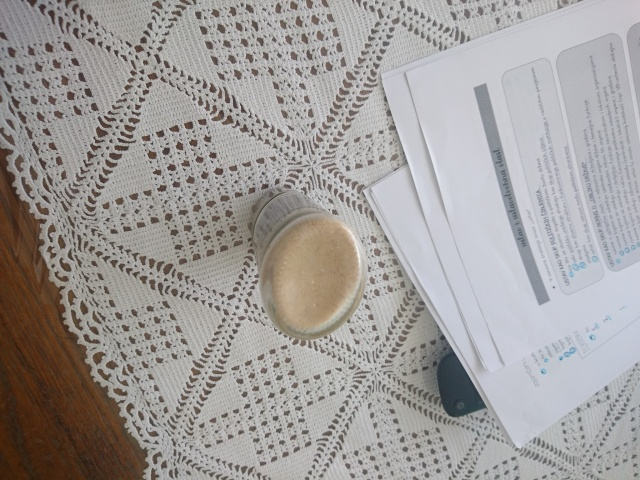Kotanyi Garlic Granules 70g: (245, 183, 370, 344)
